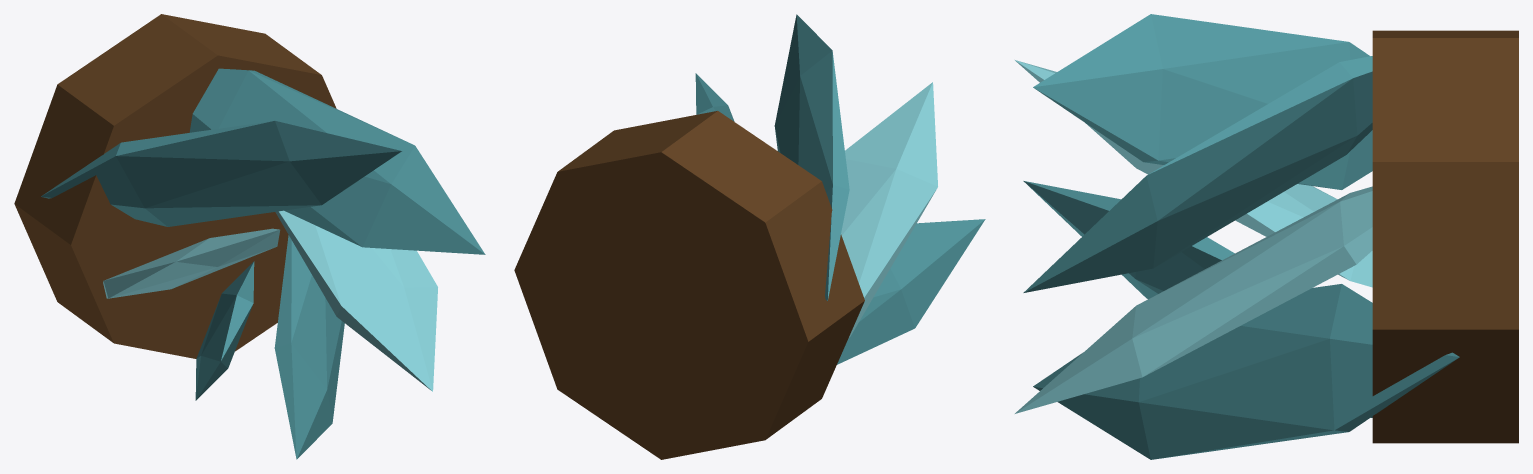
File: 2_sprouting.obj
3 renders of one model, left to right at view 1: azimuth 30°, elevation 25°; view 2: azimuth 150°, elevation 25°; view 3: azimuth 270°, elevation 25°, orthographic. The views are drawn at different scales.
Visible parts, largest first — view 1: ranarr_2_sprouting; view 2: ranarr_2_sprouting; view 3: ranarr_2_sprouting.
Boxes of the visible parts, x1,y1,x2,y2 form: ranarr_2_sprouting: (14,14,485,459); ranarr_2_sprouting: (514,14,985,459); ranarr_2_sprouting: (1015,14,1518,459).
Size of the model in its own units: 0.12 by 0.1235 by 0.138.
